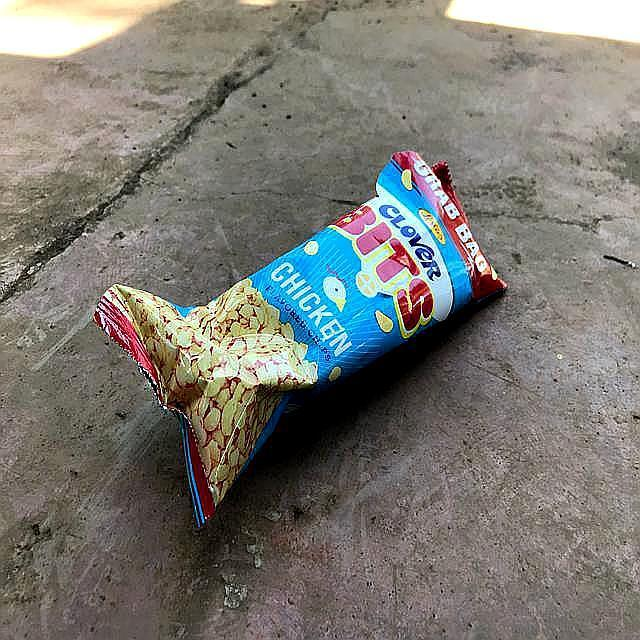Non-biodegradable: (92, 148, 509, 531)
